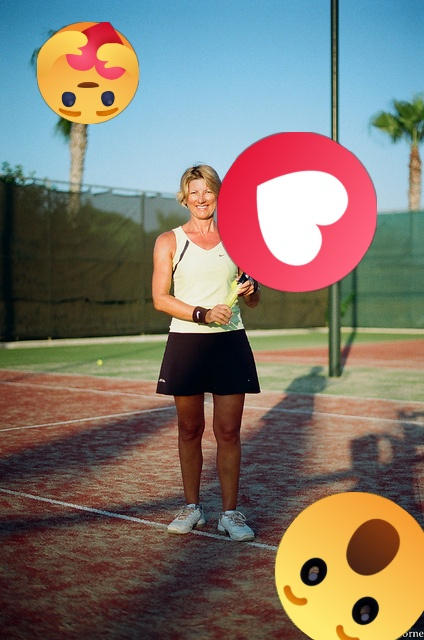care: (37, 22, 139, 124)
love: (217, 132, 377, 292)
wow: (275, 492, 424, 640)
